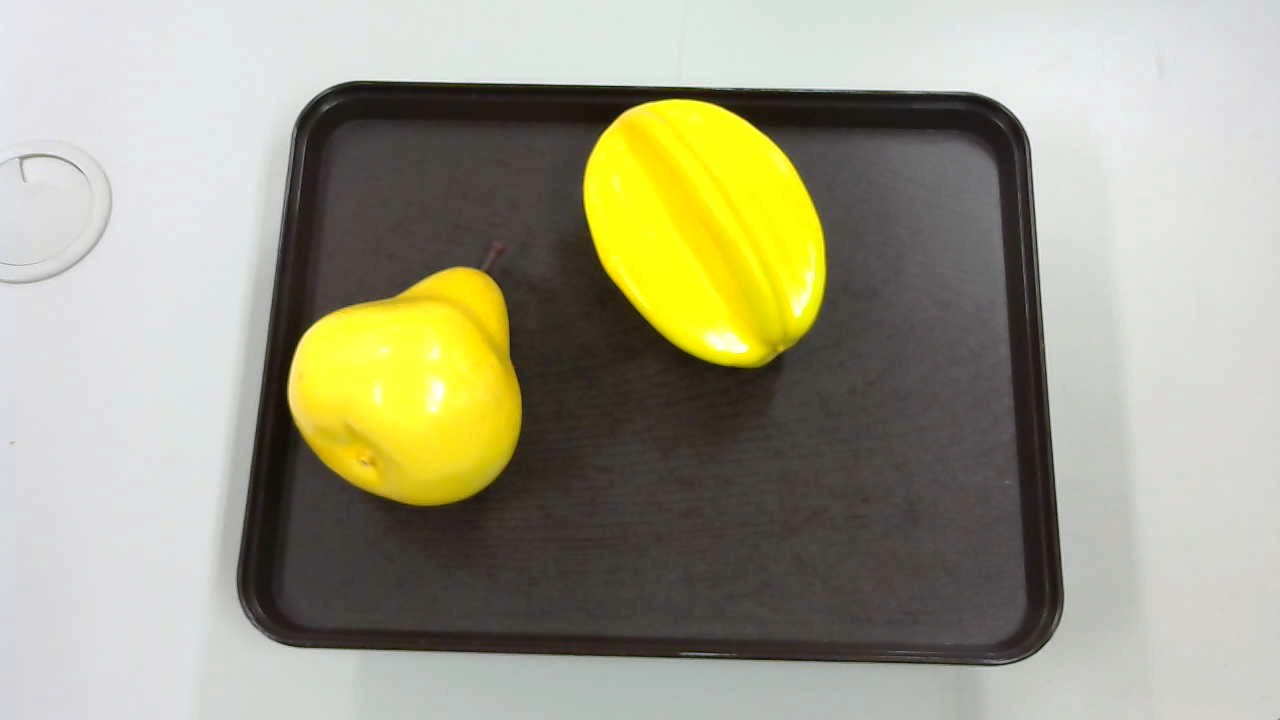star fruit: (579, 97, 837, 374)
yellow pear: (277, 234, 535, 509)
